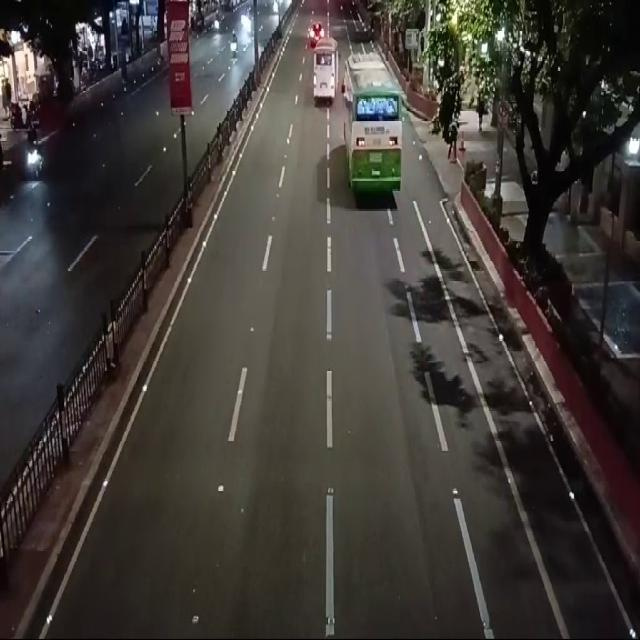bus: (342, 48, 408, 214)
jeepney: (313, 36, 339, 108)
